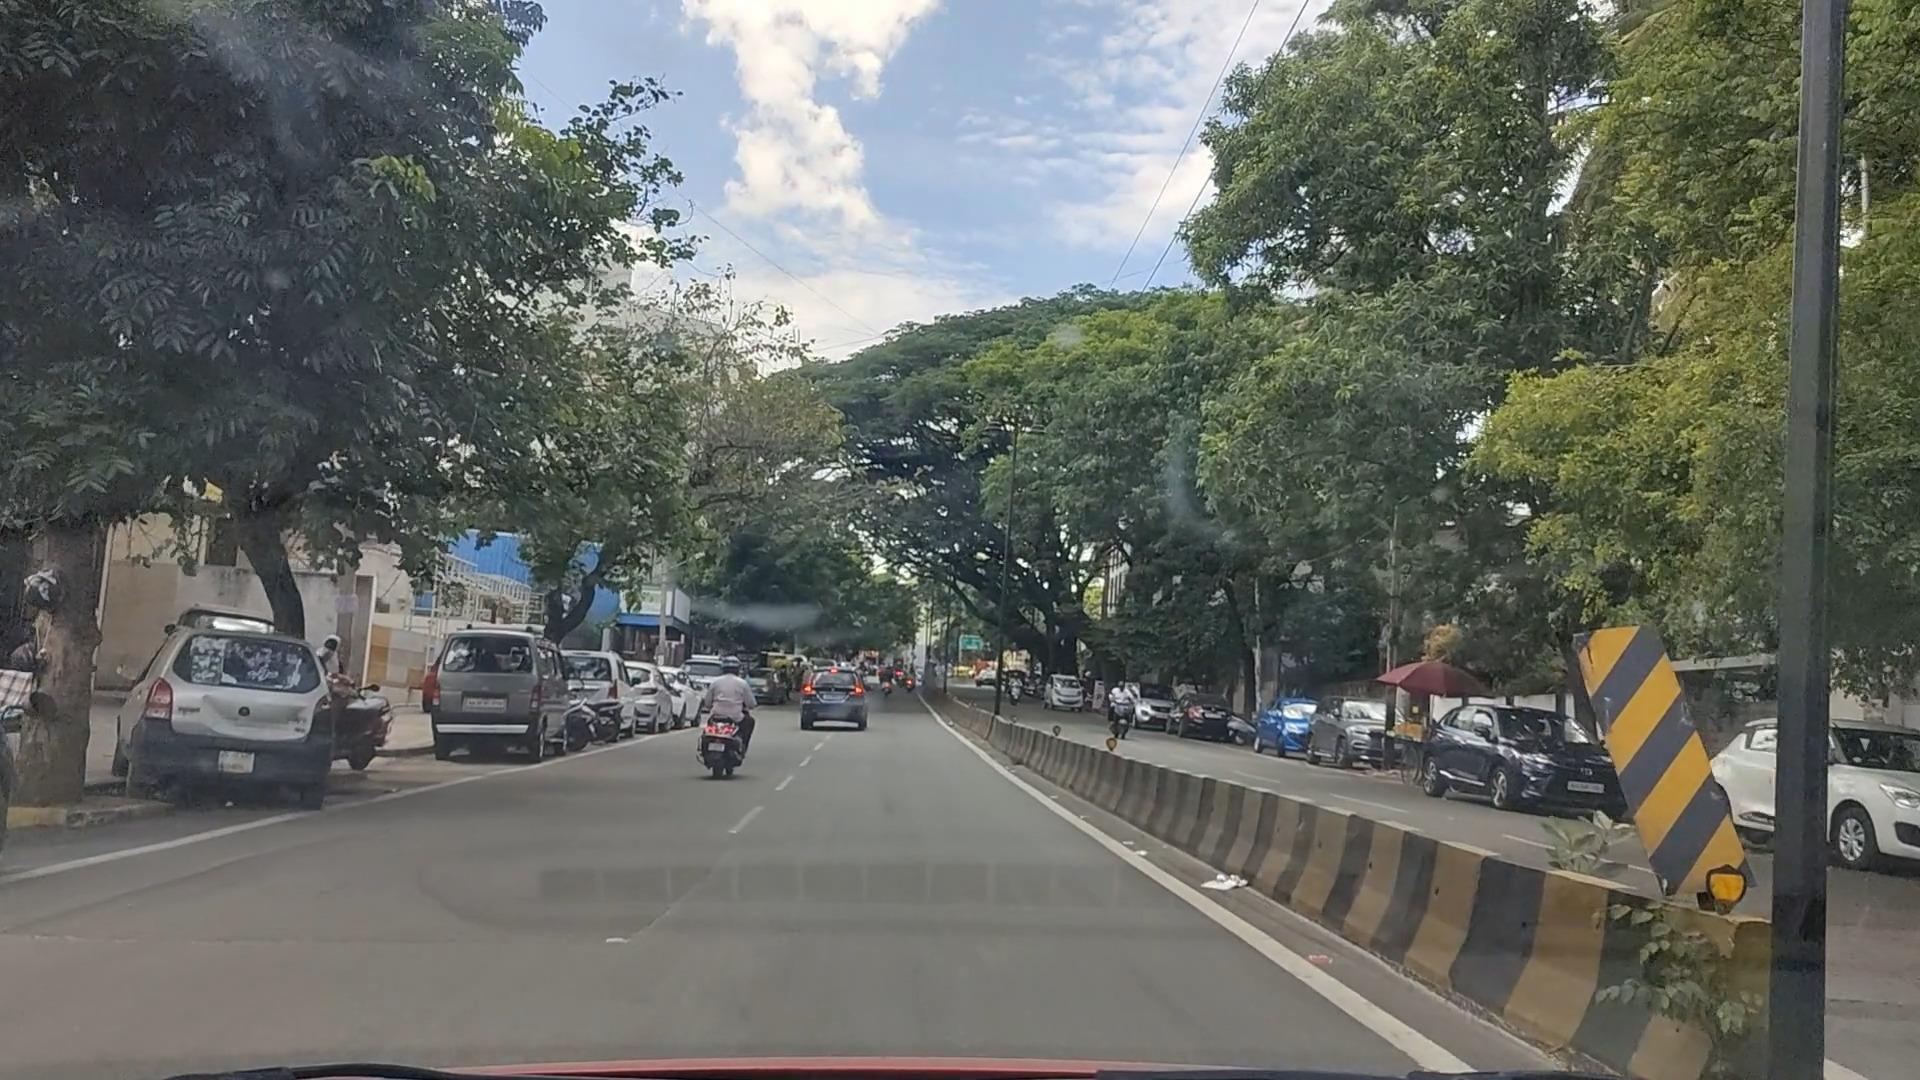LMV: (161, 611, 368, 802), (695, 638, 771, 785)
